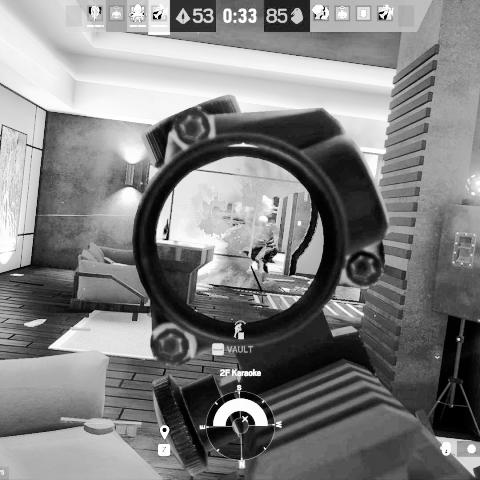Character: (251, 214, 281, 275)
Head: (259, 214, 269, 226)
